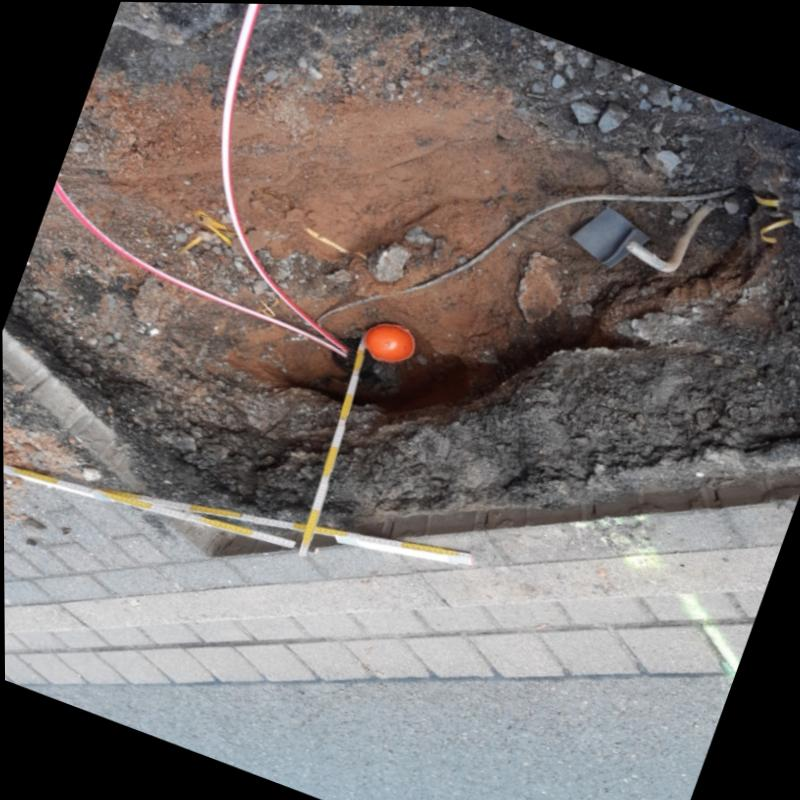Kugelmarker: (363, 320, 416, 361)
